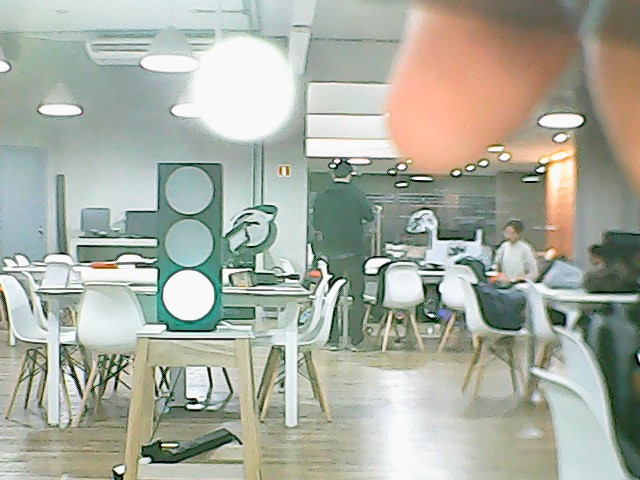verde: (153, 159, 227, 336)
